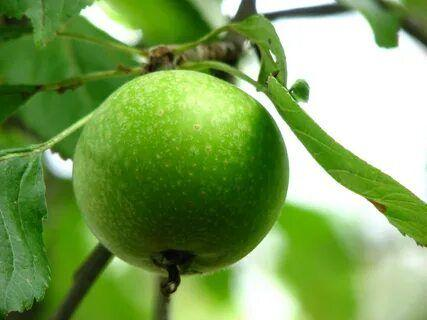Apple: (73, 69, 290, 278)
